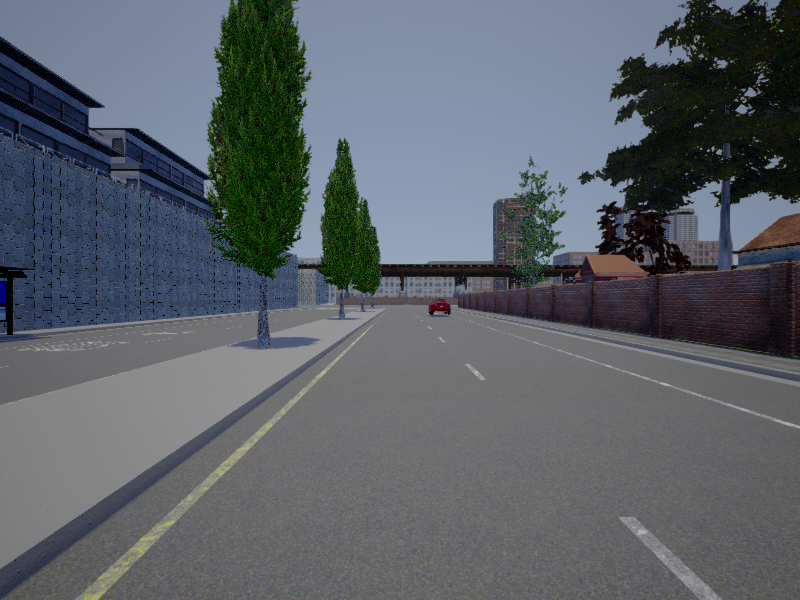Attacker: (429, 300, 453, 315)
